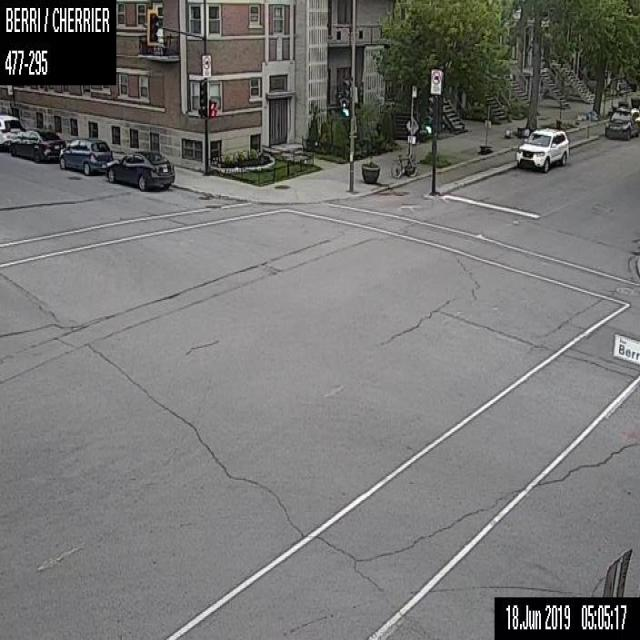vehicle: (104, 151, 174, 191), (515, 128, 568, 172), (58, 138, 112, 174), (8, 128, 66, 161), (604, 106, 639, 139), (0, 114, 25, 150)
